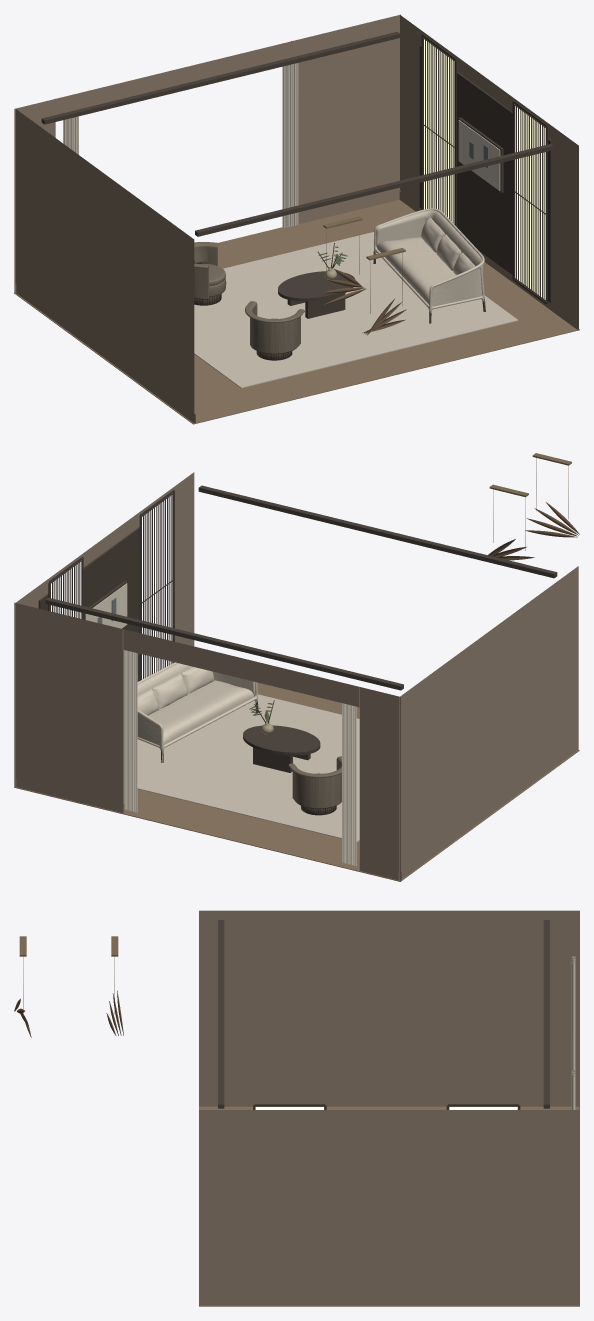
The model's file is great-1.glb.
3 renders of one model, top to bottom at view 1: azimuth 30°, elevation 25°; view 2: azimuth 150°, elevation 25°; view 3: azimuth 270°, elevation 25°, orthographic. The views are drawn at different scales.
Visible parts, largest first — view 1: DESIGN | great removable wall finish, DESIGN | Great room primary ground, DESIGN | great floor finish, DESIGN | Retreat timber wall plane, DESIGN | Great room vertical garden boundary diffuse backing (×2), DESIGN | Great room sofa facing conversation, DESIGN | Kumiko | Great room vertical garden boundary, DESIGN | Kumiko | Great room vertical garden boundary.001, DESIGN | Retreat concealed light edge.001, DESIGN | Retreat concealed light edge, DESIGN | Great room soft window edge.001, DESIGN | Required Bellustar swivel chair one (+5 smaller); view 2: DESIGN | great removable wall finish, DESIGN | Great room primary ground, DESIGN | great floor finish, DESIGN | Great room sofa facing conversation, DESIGN | Kumiko | Great room vertical garden boundary, DESIGN | Great room vertical garden boundary diffuse backing (×2), DESIGN | Retreat timber wall plane, DESIGN | Retreat concealed light edge, DESIGN | Retreat concealed light edge.001, DESIGN | Great room soft window edge, DESIGN | Great room soft window edge.001, DESIGN | Required Bellustar swivel chair two (+5 smaller); view 3: DESIGN | great removable wall finish, DESIGN | great floor finish, DESIGN | Retreat concealed light edge, DESIGN | Retreat concealed light edge.001, DESIGN | Great room soft window edge.
Boxes of the visible parts, x1=… form: DESIGN | great removable wall finish: x1=14, y1=14, x2=578, y2=423; DESIGN | Great room primary ground: x1=194, y1=232, x2=518, y2=388; DESIGN | great floor finish: x1=14, y1=200, x2=579, y2=424; DESIGN | Retreat timber wall plane: x1=419, y1=45, x2=552, y2=302; DESIGN | Great room vertical garden boundary diffuse backing (×2): x1=424, y1=39, x2=545, y2=299; DESIGN | Great room sofa facing conversation: x1=373, y1=208, x2=485, y2=323; DESIGN | Kumiko | Great room vertical garden boundary: x1=512, y1=101, x2=547, y2=304; DESIGN | Kumiko | Great room vertical garden boundary.001: x1=421, y1=34, x2=456, y2=226; DESIGN | Retreat concealed light edge.001: x1=41, y1=31, x2=400, y2=124; DESIGN | Retreat concealed light edge: x1=195, y1=144, x2=553, y2=236; DESIGN | Great room soft window edge.001: x1=282, y1=63, x2=298, y2=228; DESIGN | Required Bellustar swivel chair one: x1=245, y1=301, x2=304, y2=360; DESIGN | great removable wall finish: x1=14, y1=472, x2=578, y2=880; DESIGN | Great room primary ground: x1=137, y1=694, x2=359, y2=842; DESIGN | great floor finish: x1=14, y1=682, x2=579, y2=881; DESIGN | Great room sofa facing conversation: x1=137, y1=662, x2=258, y2=762; DESIGN | Kumiko | Great room vertical garden boundary: x1=139, y1=490, x2=174, y2=680; DESIGN | Great room vertical garden boundary diffuse backing (×2): x1=51, y1=495, x2=172, y2=679; DESIGN | Retreat timber wall plane: x1=38, y1=527, x2=139, y2=681; DESIGN | Retreat concealed light edge: x1=198, y1=485, x2=557, y2=578; DESIGN | Retreat concealed light edge.001: x1=45, y1=597, x2=403, y2=690; DESIGN | Great room soft window edge: x1=342, y1=703, x2=356, y2=866; DESIGN | Great room soft window edge.001: x1=123, y1=650, x2=137, y2=812; DESIGN | Required Bellustar swivel chair two: x1=288, y1=756, x2=341, y2=815; DESIGN | great removable wall finish: x1=199, y1=910, x2=579, y2=1305; DESIGN | great floor finish: x1=199, y1=1106, x2=579, y2=1306; DESIGN | Retreat concealed light edge: x1=218, y1=920, x2=224, y2=1108; DESIGN | Retreat concealed light edge.001: x1=543, y1=920, x2=549, y2=1108; DESIGN | Great room soft window edge: x1=571, y1=956, x2=575, y2=1070.
Bounding box in the file's own units: 6 × 3.04 × 7.16.
